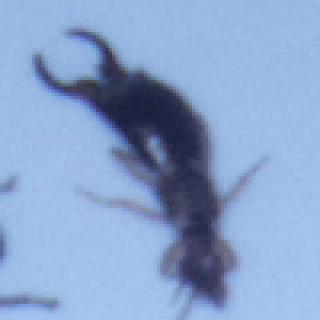earwig: (32, 25, 265, 320)
